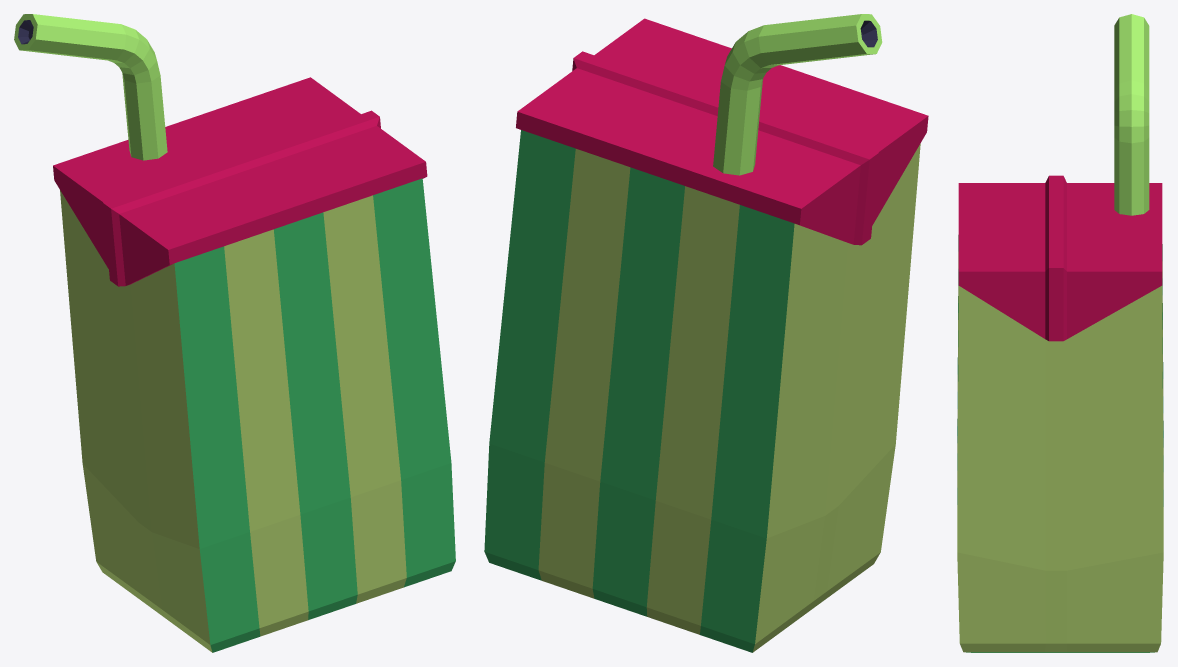
File: FrootBox.Wassernenlon.fbx
3 views of the same model, side by side, from view 1: azimuth 30°, elevation 25°; view 2: azimuth 150°, elevation 25°; view 3: azimuth 270°, elevation 25° (orthographic). The views are drawn at different scales.
Parts seen in each view (by area): view 1: FrootBox.Wassernenlon; view 2: FrootBox.Wassernenlon; view 3: FrootBox.Wassernenlon.
Part boxes in pixels (box(x1,y1,x2,y2)): FrootBox.Wassernenlon: box(14, 14, 455, 652); FrootBox.Wassernenlon: box(484, 14, 928, 652); FrootBox.Wassernenlon: box(957, 14, 1163, 652).
Bounding box in the file's own units: 47.22 × 78.87 × 28.23.
